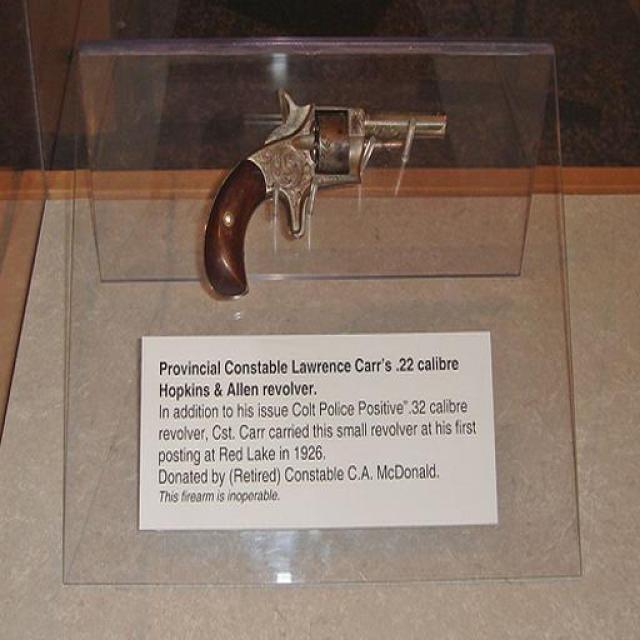pistol: (204, 80, 449, 297)
